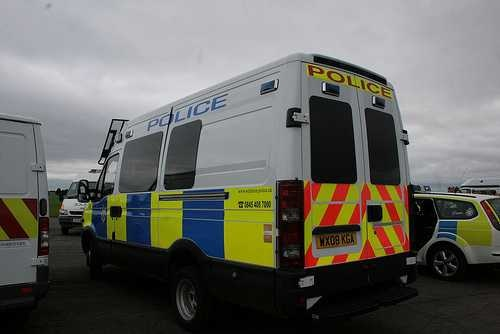Police Van: (83, 42, 425, 319)
